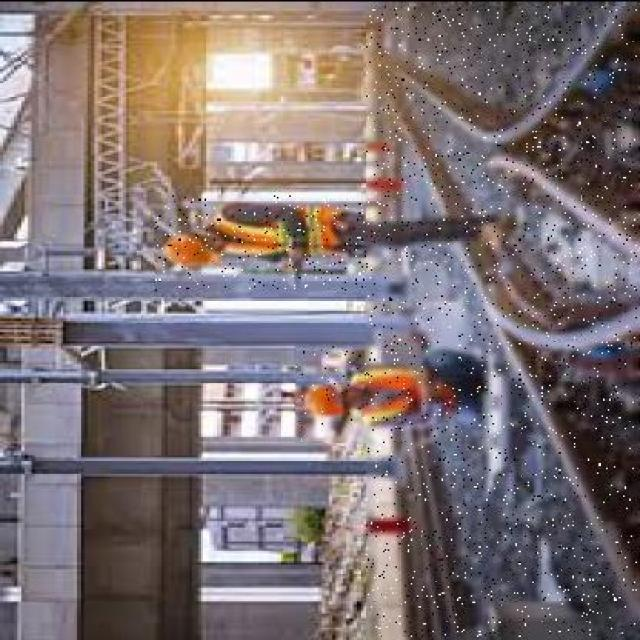rail: (368, 6, 638, 633)
